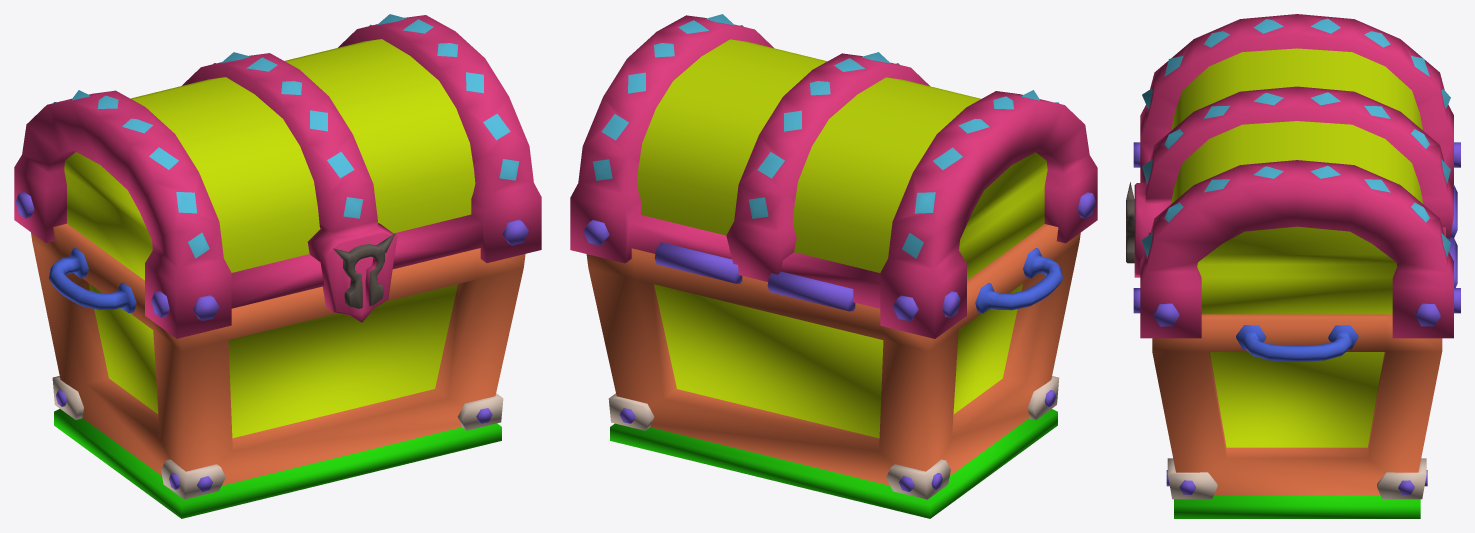
Rendered from Spiky Treasure Chest 01_PTX.fbx.
3 views of the same model, side by side, from view 1: azimuth 30°, elevation 25°; view 2: azimuth 150°, elevation 25°; view 3: azimuth 270°, elevation 25° (orthographic). The views are drawn at different scales.
Visible parts, largest first — view 1: Spiky Treasure Chest Lid 01_PTX, Spiky Treasure Chest 01_PTX; view 2: Spiky Treasure Chest Lid 01_PTX, Spiky Treasure Chest 01_PTX; view 3: Spiky Treasure Chest Lid 01_PTX, Spiky Treasure Chest 01_PTX.
Part boxes in pixels (x1,y1,x2,y2): Spiky Treasure Chest Lid 01_PTX: (14, 14, 541, 338); Spiky Treasure Chest 01_PTX: (31, 223, 525, 518); Spiky Treasure Chest Lid 01_PTX: (570, 14, 1097, 338); Spiky Treasure Chest 01_PTX: (586, 224, 1080, 518); Spiky Treasure Chest Lid 01_PTX: (1126, 14, 1460, 338); Spiky Treasure Chest 01_PTX: (1152, 314, 1442, 518).
Size of the model in its own units: 1.41 by 1.13 by 0.9747.
